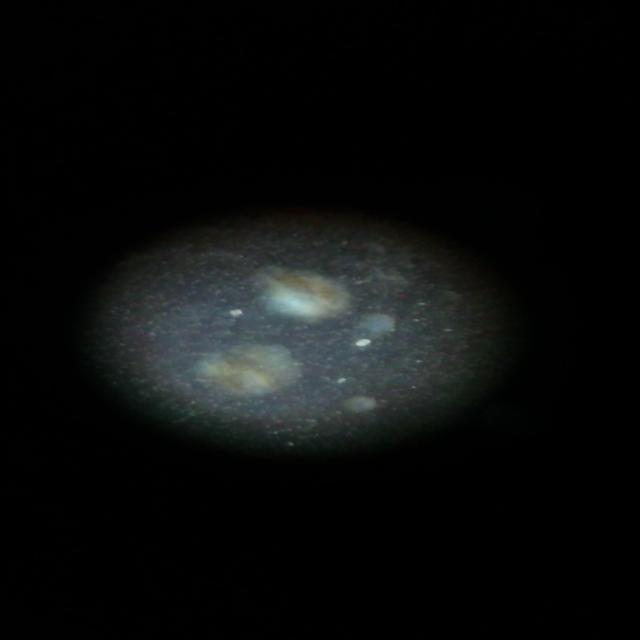alexandrium: (248, 258, 348, 334), (205, 339, 303, 403)
